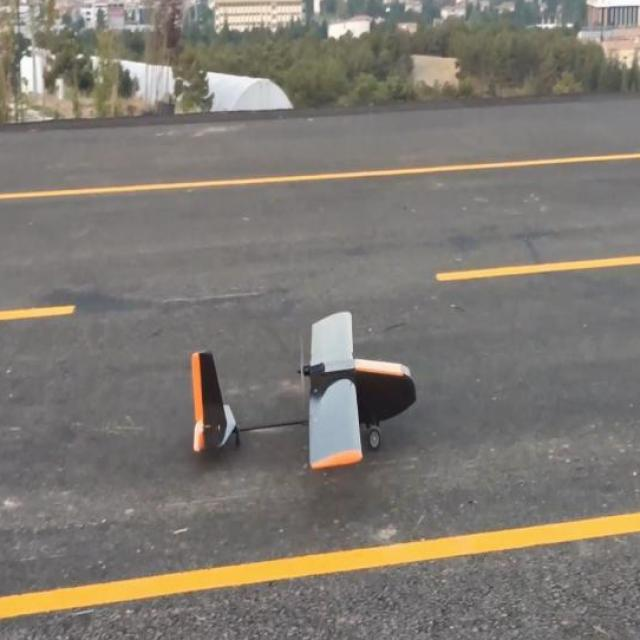plane: (188, 308, 417, 471)
